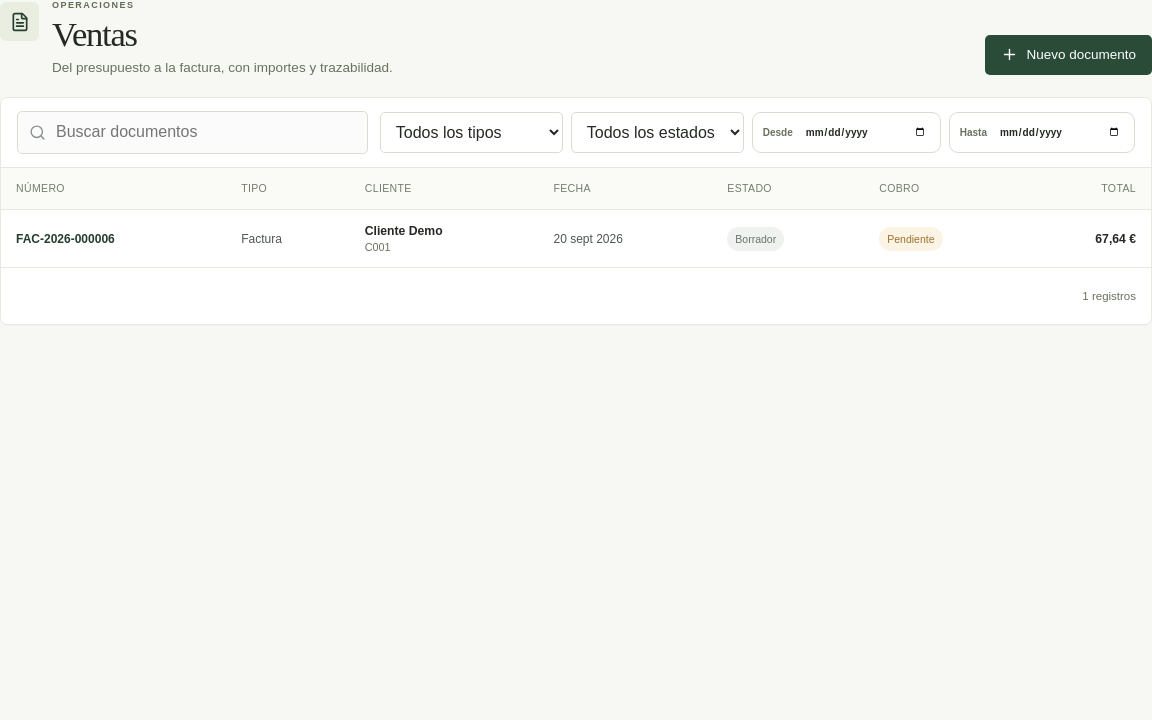
it: issues a draft invoice after warning that it becomes final
Click the text "FAC-2026-000006" at (65, 238), box [16,232,115,246]
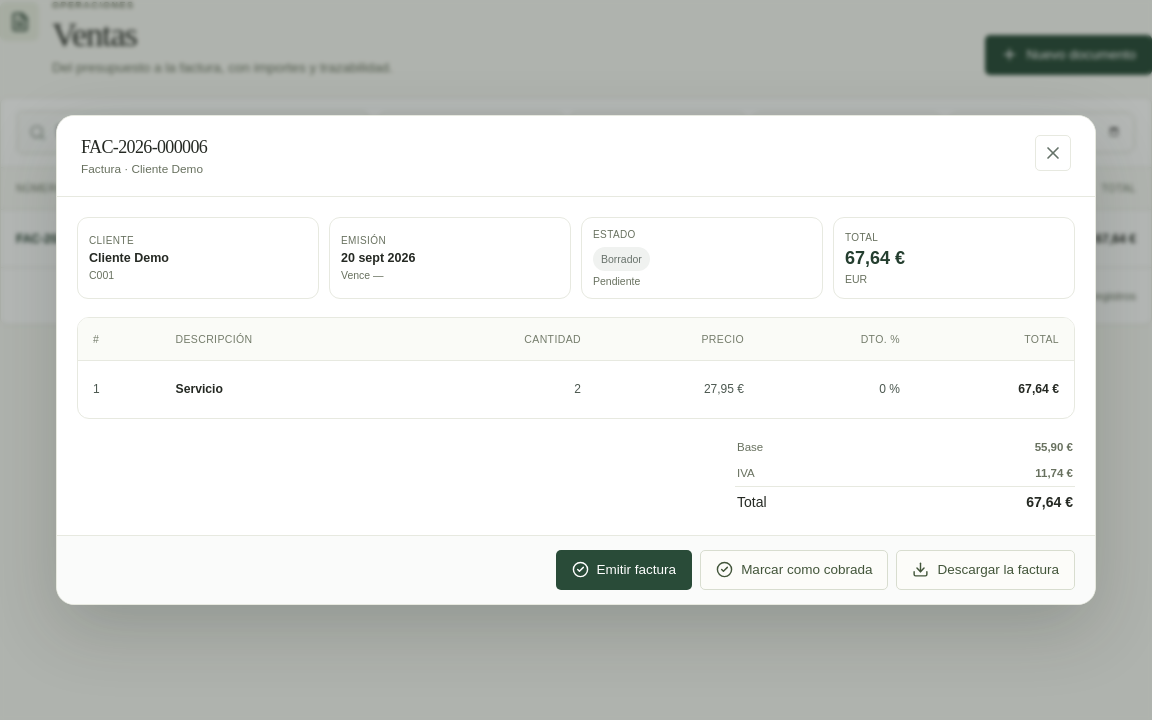
Click the button "Emitir factura" at (624, 570), box [556,550,692,590]
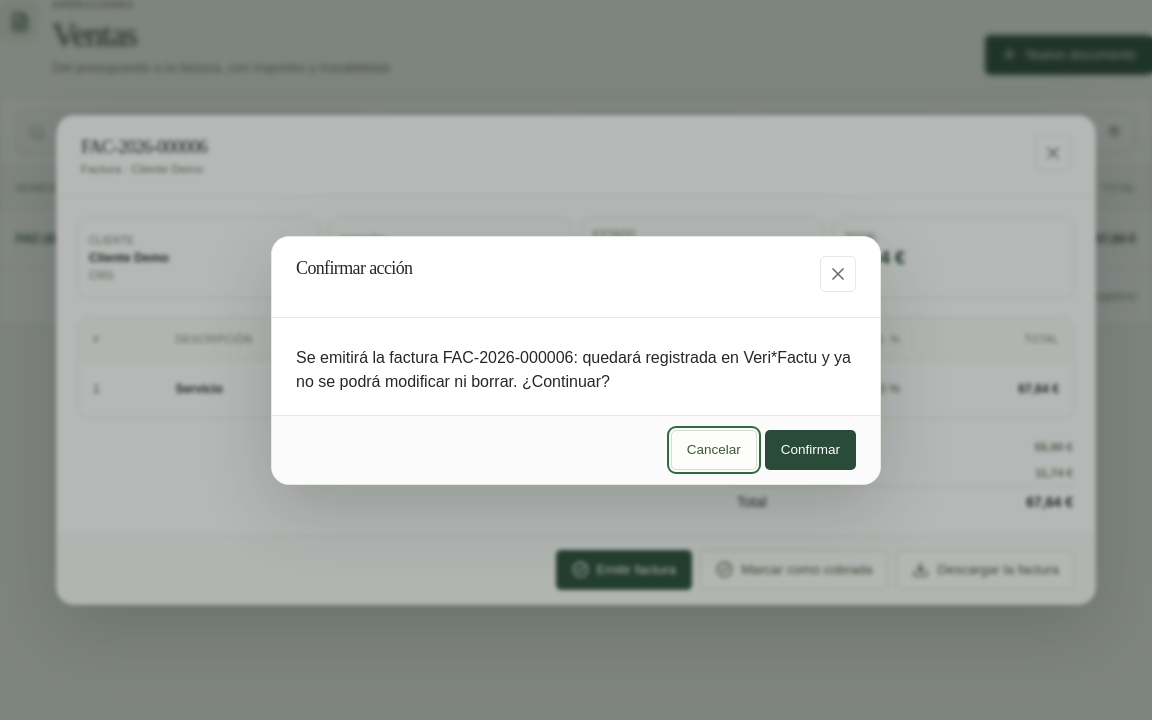
Check: the dialog "Confirmar acción" shows "quedará registrada en Veri*Factu", box [296,348,851,390]
Click the button "Confirmar" at (810, 450), box [765,430,856,470]
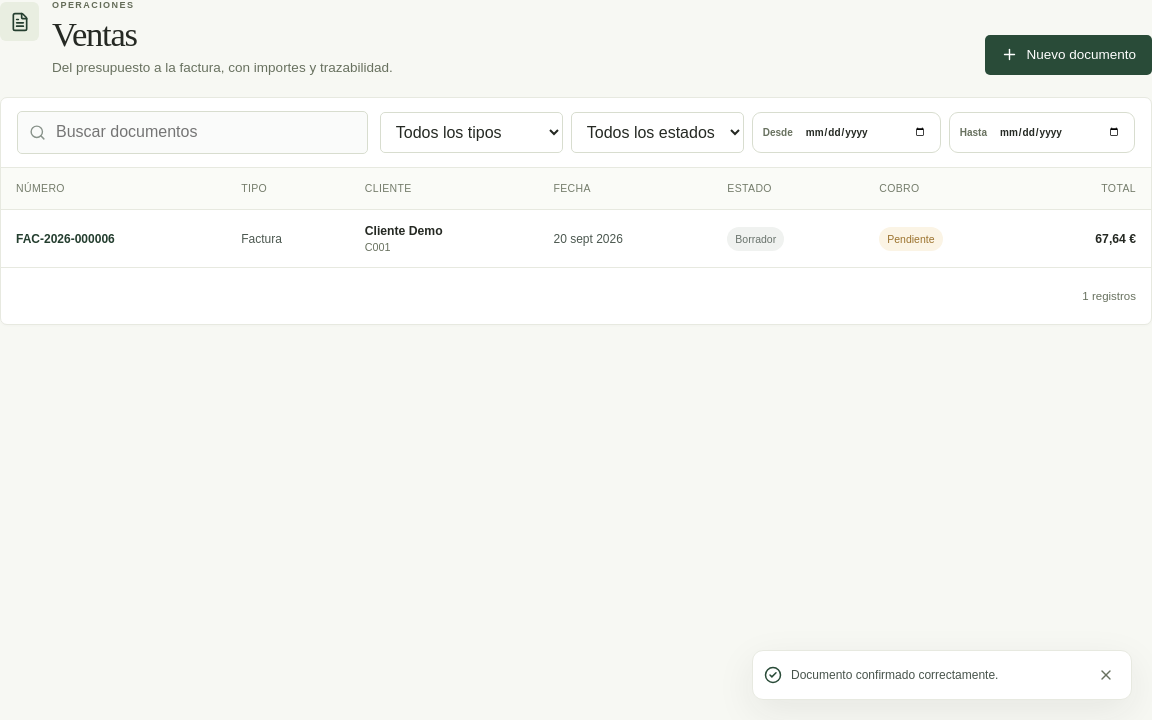
Check: the text "Documento confirmado correctamente." is shown, box [791,668,998,682]
